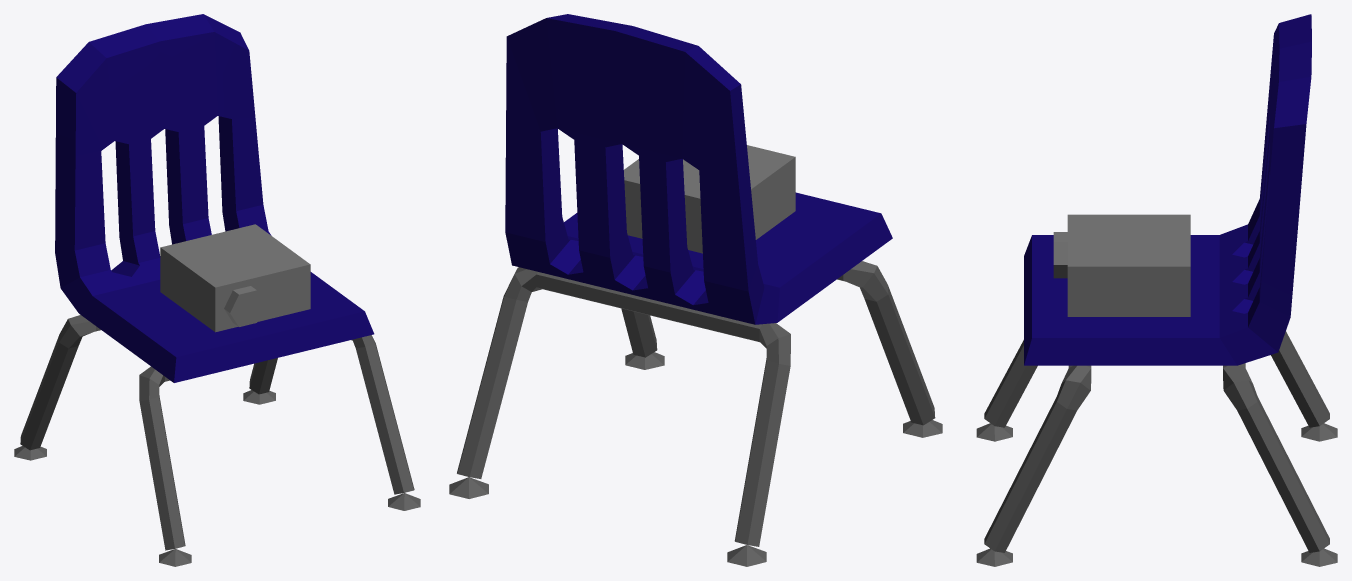
Rendered from ProjectorChair.glb.
3 views of the same model, side by side, from view 1: azimuth 30°, elevation 25°; view 2: azimuth 150°, elevation 25°; view 3: azimuth 270°, elevation 25° (orthographic). The views are drawn at different scales.
Visible parts, largest first — view 1: Chair, Legs, Projector; view 2: Chair, Legs, Projector; view 3: Chair, Legs, Projector.
Part boxes in pixels (x1,y1,x2,y2): Chair: (55,14,374,382); Legs: (14,315,420,566); Projector: (160,224,310,332); Chair: (505,14,892,324); Legs: (449,261,942,566); Projector: (624,145,795,253); Chair: (1024,14,1311,365); Legs: (976,331,1337,566); Projector: (1053,214,1190,316).
Size of the model in its own units: 1.27 by 1.87 by 1.37.
